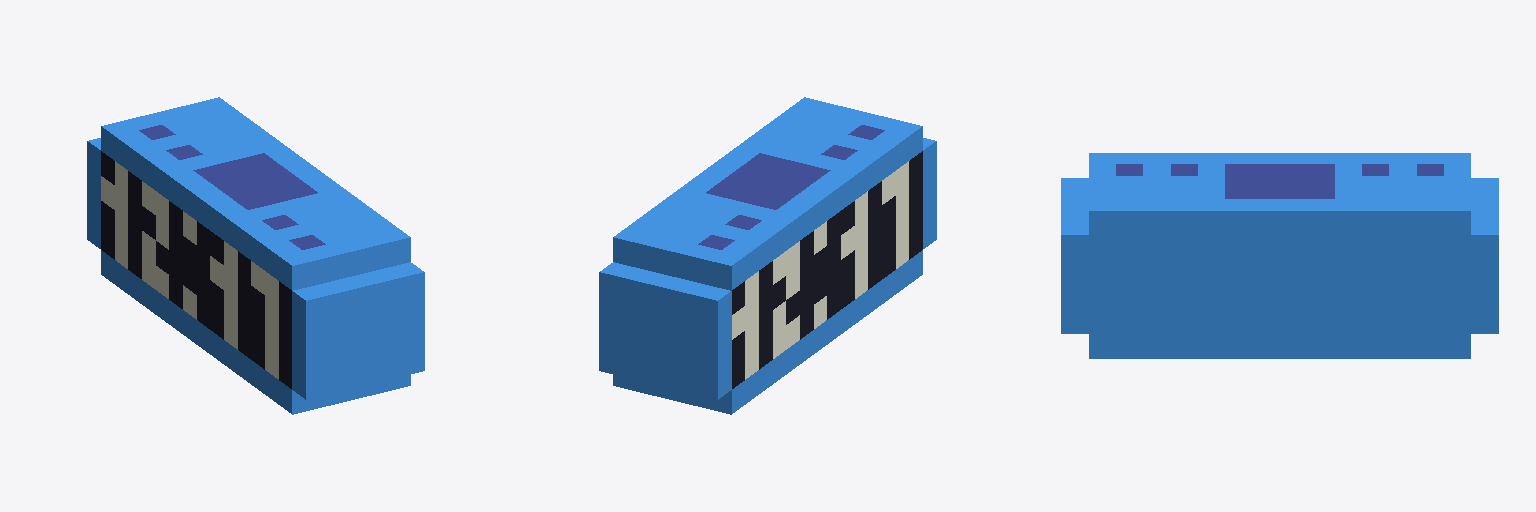
3 renders of one model, left to right at view 1: azimuth 30°, elevation 25°; view 2: azimuth 150°, elevation 25°; view 3: azimuth 270°, elevation 25°, orthographic.
Visible parts, largest first — view 1: Clock_Clock.001; view 2: Clock_Clock.001; view 3: Clock_Clock.001.
Boxes of the visible parts, x1=… form: Clock_Clock.001: x1=87, y1=97, x2=424, y2=414; Clock_Clock.001: x1=599, y1=97, x2=936, y2=414; Clock_Clock.001: x1=1061, y1=153, x2=1498, y2=358.
Bounding box in the file's own units: 0.5 × 0.6 × 1.6.
Materials: 1 (1 with a texture image).